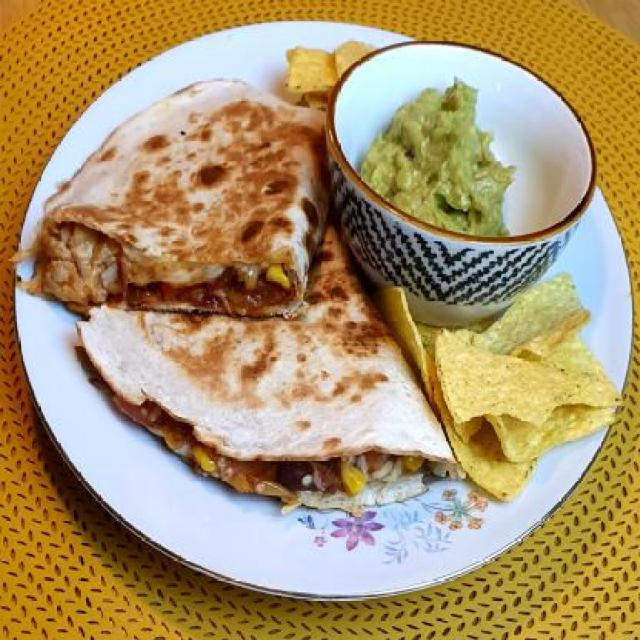chicken quesadilla: (16, 63, 449, 535)
guacamole: (355, 72, 527, 286)
nachos: (378, 274, 627, 498), (272, 36, 383, 119)
